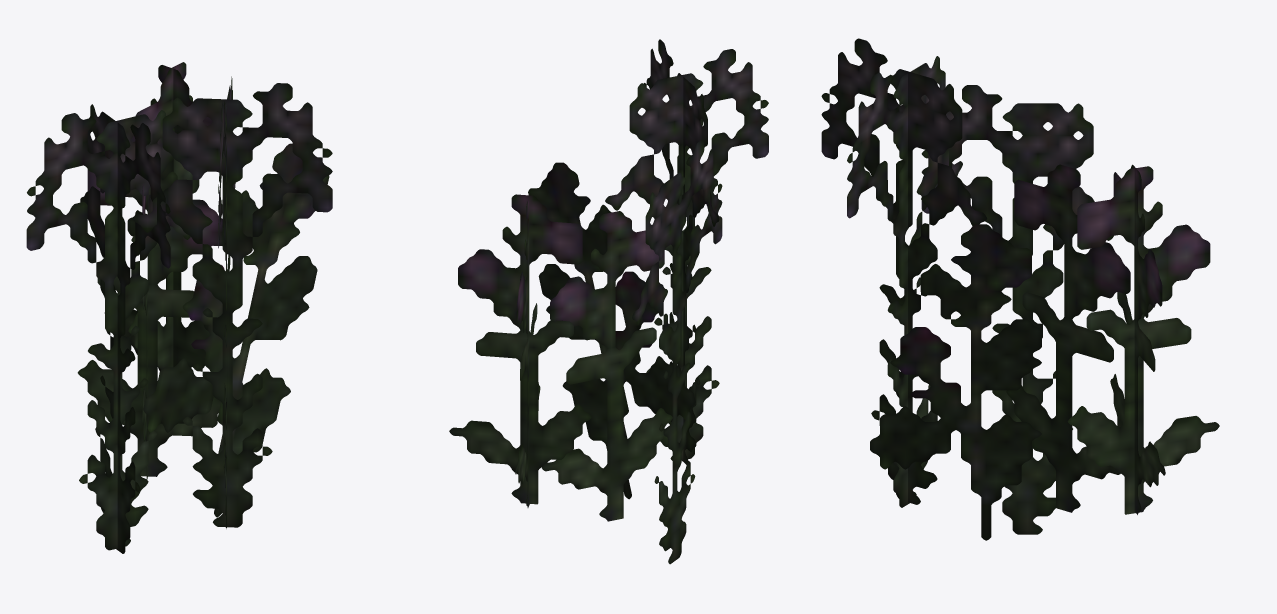
Rendered from SM_EC_Plant_Bush_16.fbx.
3 views of the same model, side by side, from view 1: azimuth 30°, elevation 25°; view 2: azimuth 150°, elevation 25°; view 3: azimuth 270°, elevation 25° (orthographic). The views are drawn at different scales.
Visible parts, largest first — view 1: SM_EC_Plant_Bush_16; view 2: SM_EC_Plant_Bush_16; view 3: SM_EC_Plant_Bush_16.
Part boxes in pixels (left/top/right/bottom): SM_EC_Plant_Bush_16: left=26, top=62, right=332, bottom=553; SM_EC_Plant_Bush_16: left=449, top=39, right=768, bottom=564; SM_EC_Plant_Bush_16: left=821, top=38, right=1219, bottom=540.
Size of the model in its own units: 0.6153 by 0.6999 by 0.8804.
